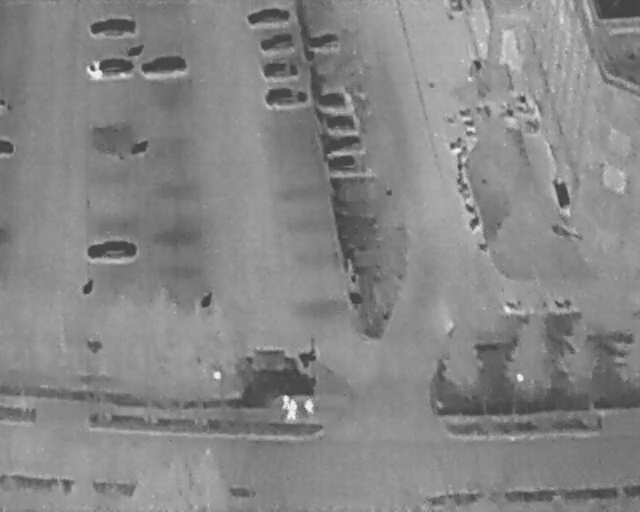Car: (262, 83, 308, 109), (87, 57, 134, 80), (246, 4, 292, 27), (322, 131, 363, 155), (87, 241, 137, 260), (142, 55, 187, 76), (258, 29, 295, 53), (91, 18, 136, 36), (262, 60, 299, 78), (327, 152, 355, 171), (307, 32, 340, 47), (326, 115, 358, 130), (319, 92, 347, 107), (0, 137, 14, 156)
Person: (305, 397, 315, 414), (281, 393, 290, 409), (289, 398, 298, 413), (287, 405, 295, 420)
